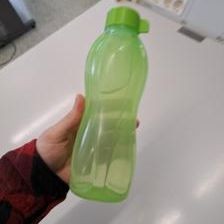bottle: (65, 6, 151, 204)
